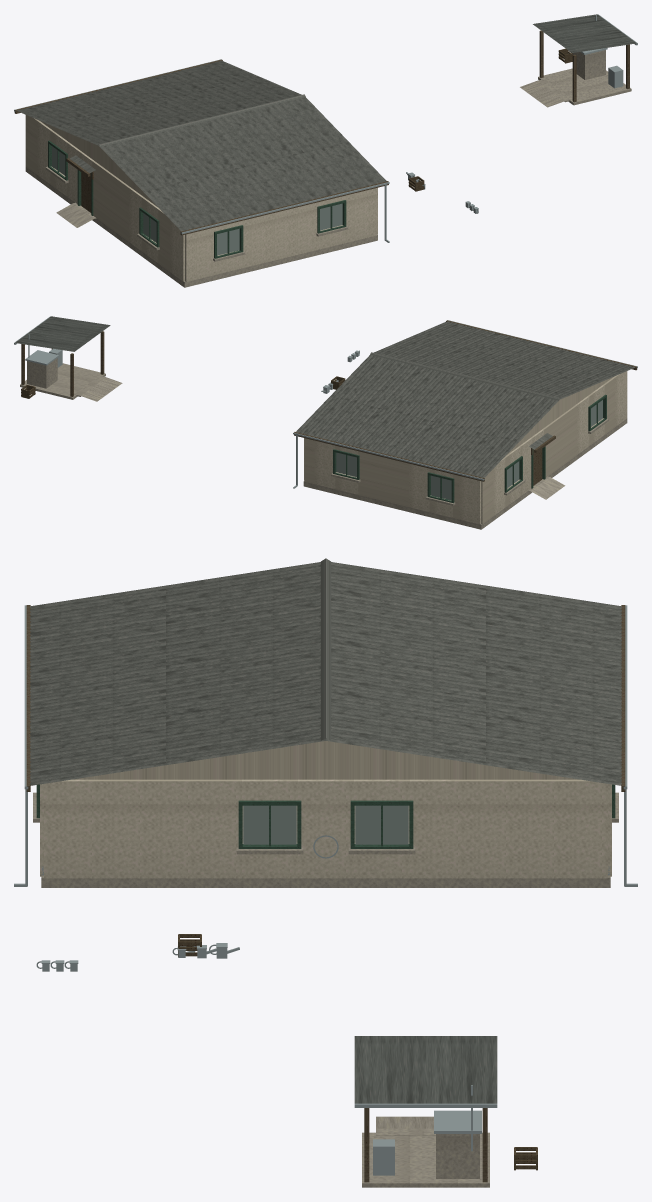
3 renders of one model, top to bottom at view 1: azimuth 30°, elevation 25°; view 2: azimuth 150°, elevation 25°; view 3: azimuth 270°, elevation 25°, orthographic. The views are drawn at different scales.
Parts seen in each view (by area): view 1: H23_CHAPAS_ONDULADAS, H23_LATERAIS, H23_FACHADA, H23_ABRIGO_AGUA_CHAPAS_UMA_AGUA, H23_FUNDACAO, H23_ABRIGO_AGUA_BASE, H23_VIDROS_RECUADOS, H23_CAIXILHOS, H23_OITOES, H23_BEIRAIS, H23_CUMEEIRA, H23_ABRIGO_AGUA_CISTERNA (+5 smaller); view 2: H23_CHAPAS_ONDULADAS, H23_LATERAIS, H23_FACHADA, H23_ABRIGO_AGUA_CHAPAS_UMA_AGUA, H23_FUNDACAO, H23_VIDROS_RECUADOS, H23_CAIXILHOS, H23_ABRIGO_AGUA_BASE, H23_OITOES, H23_BEIRAIS, H23_ABRIGO_AGUA_CISTERNA, H23_CUMEEIRA (+7 smaller); view 3: H23_CHAPAS_ONDULADAS, H23_FUNDOS, H23_OITOES, H23_ABRIGO_AGUA_CHAPAS_UMA_AGUA, H23_FUNDACAO, H23_VIDROS_RECUADOS, H23_ABRIGO_AGUA_BASE, H23_CAIXILHOS, H23_CUMEEIRA, H23_ABRIGO_AGUA_CISTERNA, H23_BEIRAIS, H23_CALHA (+3 smaller).
Part boxes in pixels (x1,y1,x2,y2): H23_CHAPAS_ONDULADAS: (17,60,386,231); H23_LATERAIS: (185,188,376,281); H23_FACHADA: (25,115,184,281); H23_ABRIGO_AGUA_CHAPAS_UMA_AGUA: (533,14,636,52); H23_FUNDACAO: (25,167,377,287); H23_ABRIGO_AGUA_BASE: (538,68,631,105); H23_VIDROS_RECUADOS: (52,146,342,255); H23_CAIXILHOS: (48,140,346,258); H23_OITOES: (40,121,157,206); H23_BEIRAIS: (14,59,388,235); H23_CUMEEIRA: (98,94,305,147); H23_ABRIGO_AGUA_CISTERNA: (572,50,605,79); H23_CHAPAS_ONDULADAS: (296,321,634,477); H23_LATERAIS: (304,438,480,524); H23_FACHADA: (481,371,627,523); H23_ABRIGO_AGUA_CHAPAS_UMA_AGUA: (15,316,110,351); H23_FUNDACAO: (303,418,627,529); H23_VIDROS_RECUADOS: (336,400,602,500); H23_CAIXILHOS: (333,394,606,503); H23_ABRIGO_AGUA_BASE: (20,363,105,399); H23_OITOES: (506,377,612,455); H23_BEIRAIS: (294,320,637,481); H23_ABRIGO_AGUA_CISTERNA: (27,358,57,388); H23_CUMEEIRA: (370,352,560,400); H23_CHAPAS_ONDULADAS: (30,562,621,785); H23_FUNDOS: (44,779,607,878); H23_OITOES: (73,741,578,779); H23_ABRIGO_AGUA_CHAPAS_UMA_AGUA: (354,1036,497,1103); H23_FUNDACAO: (41,806,610,887); H23_VIDROS_RECUADOS: (243,805,408,844); H23_ABRIGO_AGUA_BASE: (362,1132,489,1187); H23_CAIXILHOS: (36,784,615,848); H23_CUMEEIRA: (320,558,331,740); H23_ABRIGO_AGUA_CISTERNA: (436,1134,479,1178); H23_BEIRAIS: (26,605,625,791); H23_CALHA: (24,605,627,789).
Bounding box in the file's own units: 29 × 4.28 × 15.6.
11 materials, 8 textured.
